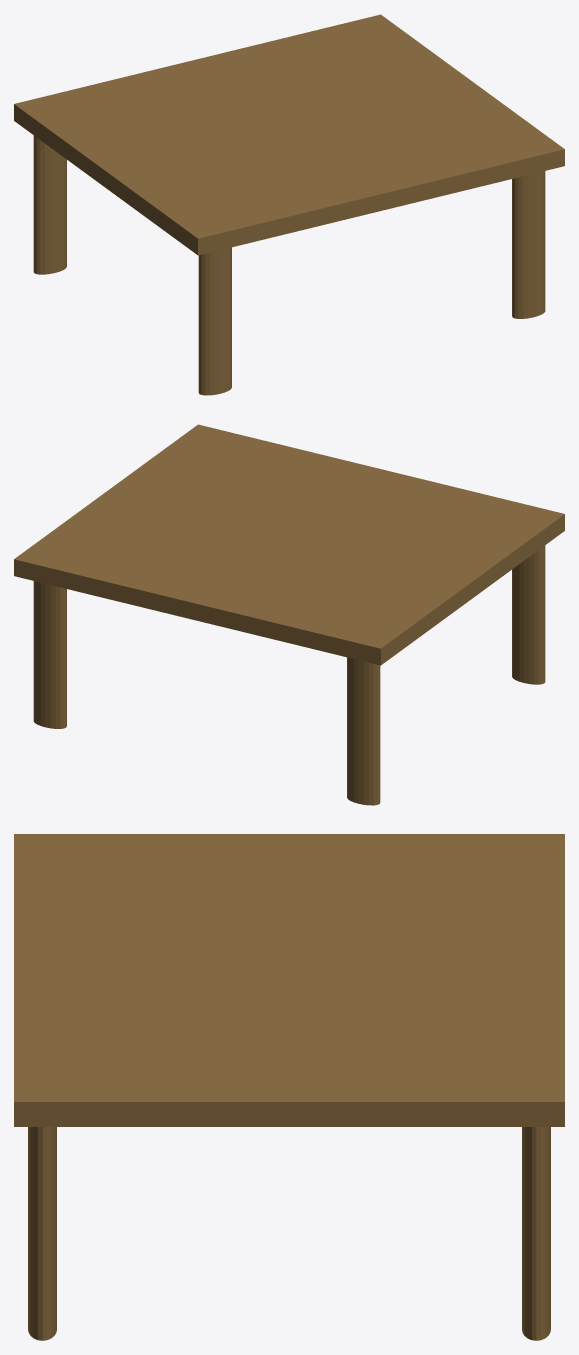
Rendered from table1.glb.
3 views of the same model, one above another, from view 1: azimuth 30°, elevation 25°; view 2: azimuth 150°, elevation 25°; view 3: azimuth 270°, elevation 25° (orthographic). The views are drawn at different scales.
Parts seen in each view (by area): view 1: Mesh_Mesh_head_geo.001_lambert2SG.001; view 2: Mesh_Mesh_head_geo.001_lambert2SG.001; view 3: Mesh_Mesh_head_geo.001_lambert2SG.001.
Part boxes in pixels (x1,y1,x2,y2): Mesh_Mesh_head_geo.001_lambert2SG.001: [14, 14, 564, 395]; Mesh_Mesh_head_geo.001_lambert2SG.001: [14, 424, 564, 805]; Mesh_Mesh_head_geo.001_lambert2SG.001: [14, 834, 564, 1340].
Bounding box in the file's own units: 0.0349 × 0.015 × 0.0303.
